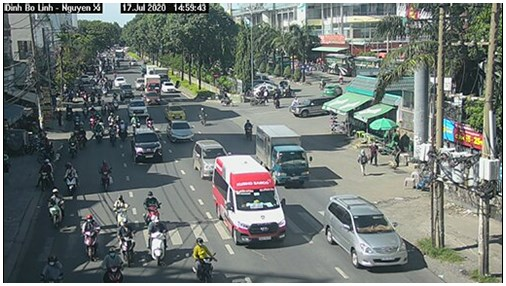xe_hoi: (322, 195, 409, 269), (132, 131, 164, 165), (191, 138, 214, 180), (288, 96, 322, 118), (165, 120, 194, 145), (127, 97, 148, 118), (163, 103, 188, 120), (161, 79, 177, 95)
xe_khach: (211, 155, 288, 247)
xe_may: (144, 213, 169, 268), (191, 235, 217, 282), (79, 214, 101, 264), (100, 246, 125, 283), (116, 223, 136, 266), (41, 253, 68, 283), (48, 187, 66, 229), (36, 157, 57, 191), (62, 162, 82, 197), (111, 193, 131, 227), (143, 188, 163, 222), (96, 157, 113, 192), (90, 120, 105, 146), (242, 117, 255, 145), (66, 132, 79, 158), (196, 104, 209, 127), (117, 118, 128, 142), (107, 122, 117, 147), (70, 109, 81, 130), (128, 113, 139, 132), (272, 88, 281, 111), (144, 113, 155, 131)
xe_tai: (255, 122, 313, 189)
